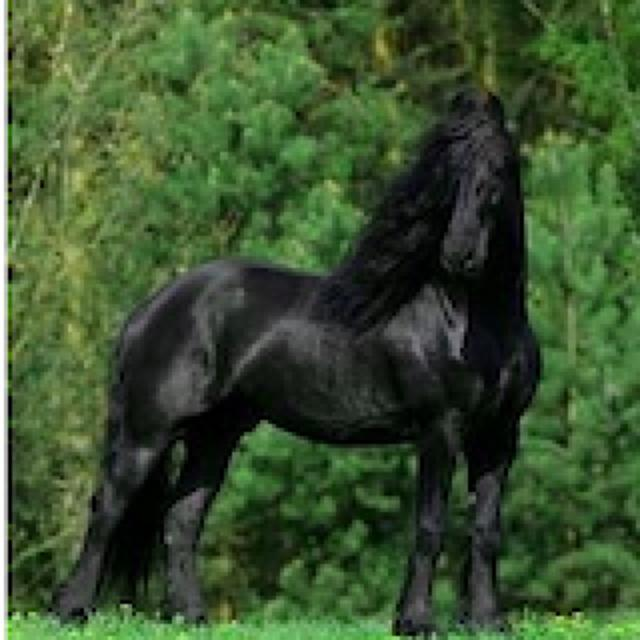Horse: (48, 80, 552, 636)
